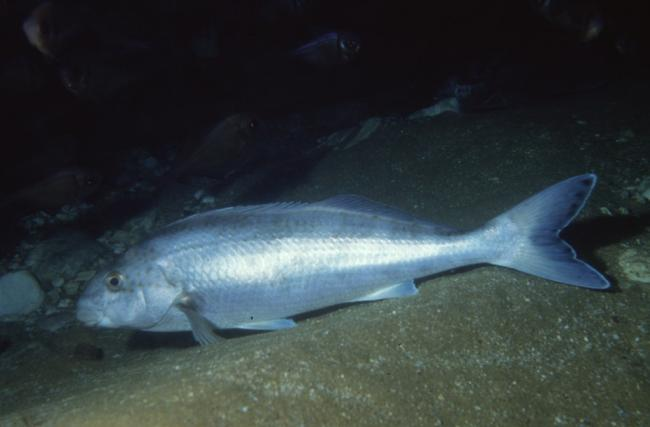fish: (75, 173, 611, 344)
